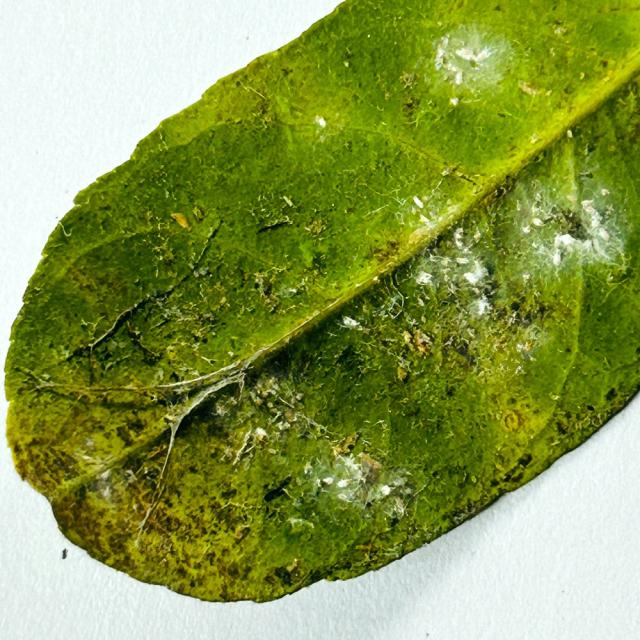Bacterial_Blight: (483, 290, 553, 354), (86, 453, 149, 516), (134, 525, 182, 573), (128, 474, 166, 522), (231, 422, 273, 465), (124, 319, 161, 364), (470, 179, 513, 217), (191, 222, 221, 270), (331, 343, 371, 378), (394, 90, 432, 126), (168, 206, 210, 235), (549, 206, 585, 239), (252, 272, 284, 308), (444, 333, 475, 365), (185, 313, 218, 343), (76, 313, 109, 342), (403, 327, 432, 357), (262, 475, 293, 502), (440, 165, 479, 186), (373, 240, 403, 265), (66, 264, 96, 289), (90, 476, 117, 502), (253, 374, 280, 400), (357, 451, 382, 479), (408, 224, 436, 246), (255, 218, 293, 233), (501, 410, 526, 432), (126, 319, 145, 344), (272, 92, 291, 117), (401, 95, 421, 118), (338, 432, 359, 453), (304, 217, 327, 236), (274, 565, 294, 585), (512, 452, 533, 471), (146, 443, 168, 460), (170, 213, 191, 230), (518, 81, 540, 96), (234, 521, 250, 539), (399, 72, 416, 88), (163, 412, 182, 426), (492, 185, 508, 201), (282, 408, 297, 424), (356, 543, 376, 554), (602, 5, 627, 13), (82, 437, 96, 451), (286, 559, 300, 573), (605, 387, 618, 401), (215, 403, 228, 417), (194, 266, 210, 277), (166, 345, 178, 359), (193, 205, 204, 220), (584, 142, 596, 155), (397, 367, 408, 381), (510, 301, 522, 313), (389, 515, 400, 528), (554, 25, 566, 36), (253, 395, 264, 405), (441, 167, 453, 176), (219, 296, 228, 307), (145, 211, 152, 224), (470, 59, 479, 69), (585, 404, 596, 412), (599, 59, 608, 68), (32, 286, 42, 293), (608, 145, 617, 152), (343, 60, 349, 68), (579, 72, 585, 80)
Lemon: (3, 0, 639, 605)
